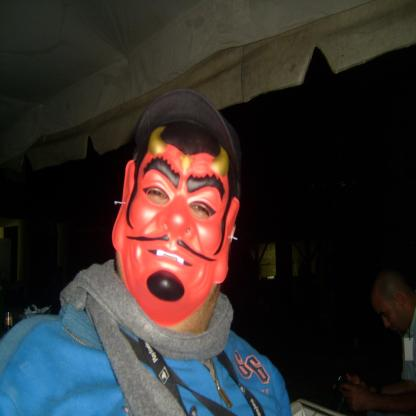Helmet: (115, 97, 248, 324)
